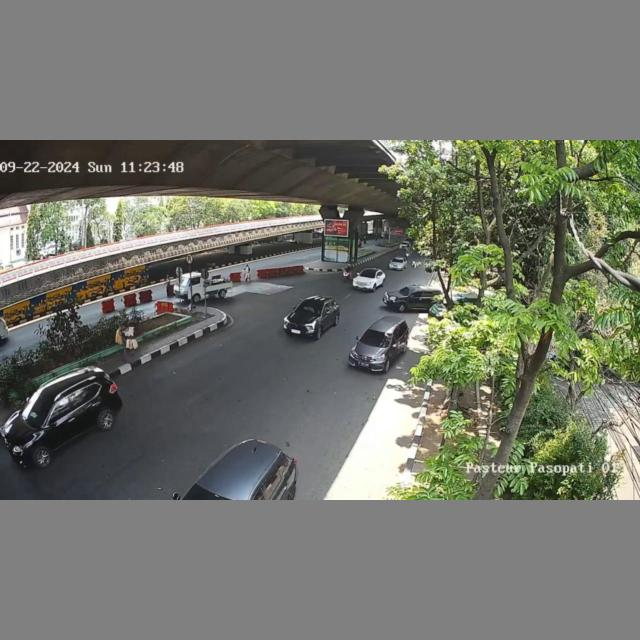windshield: (358, 328, 392, 348), (294, 299, 325, 318), (359, 269, 377, 280)
